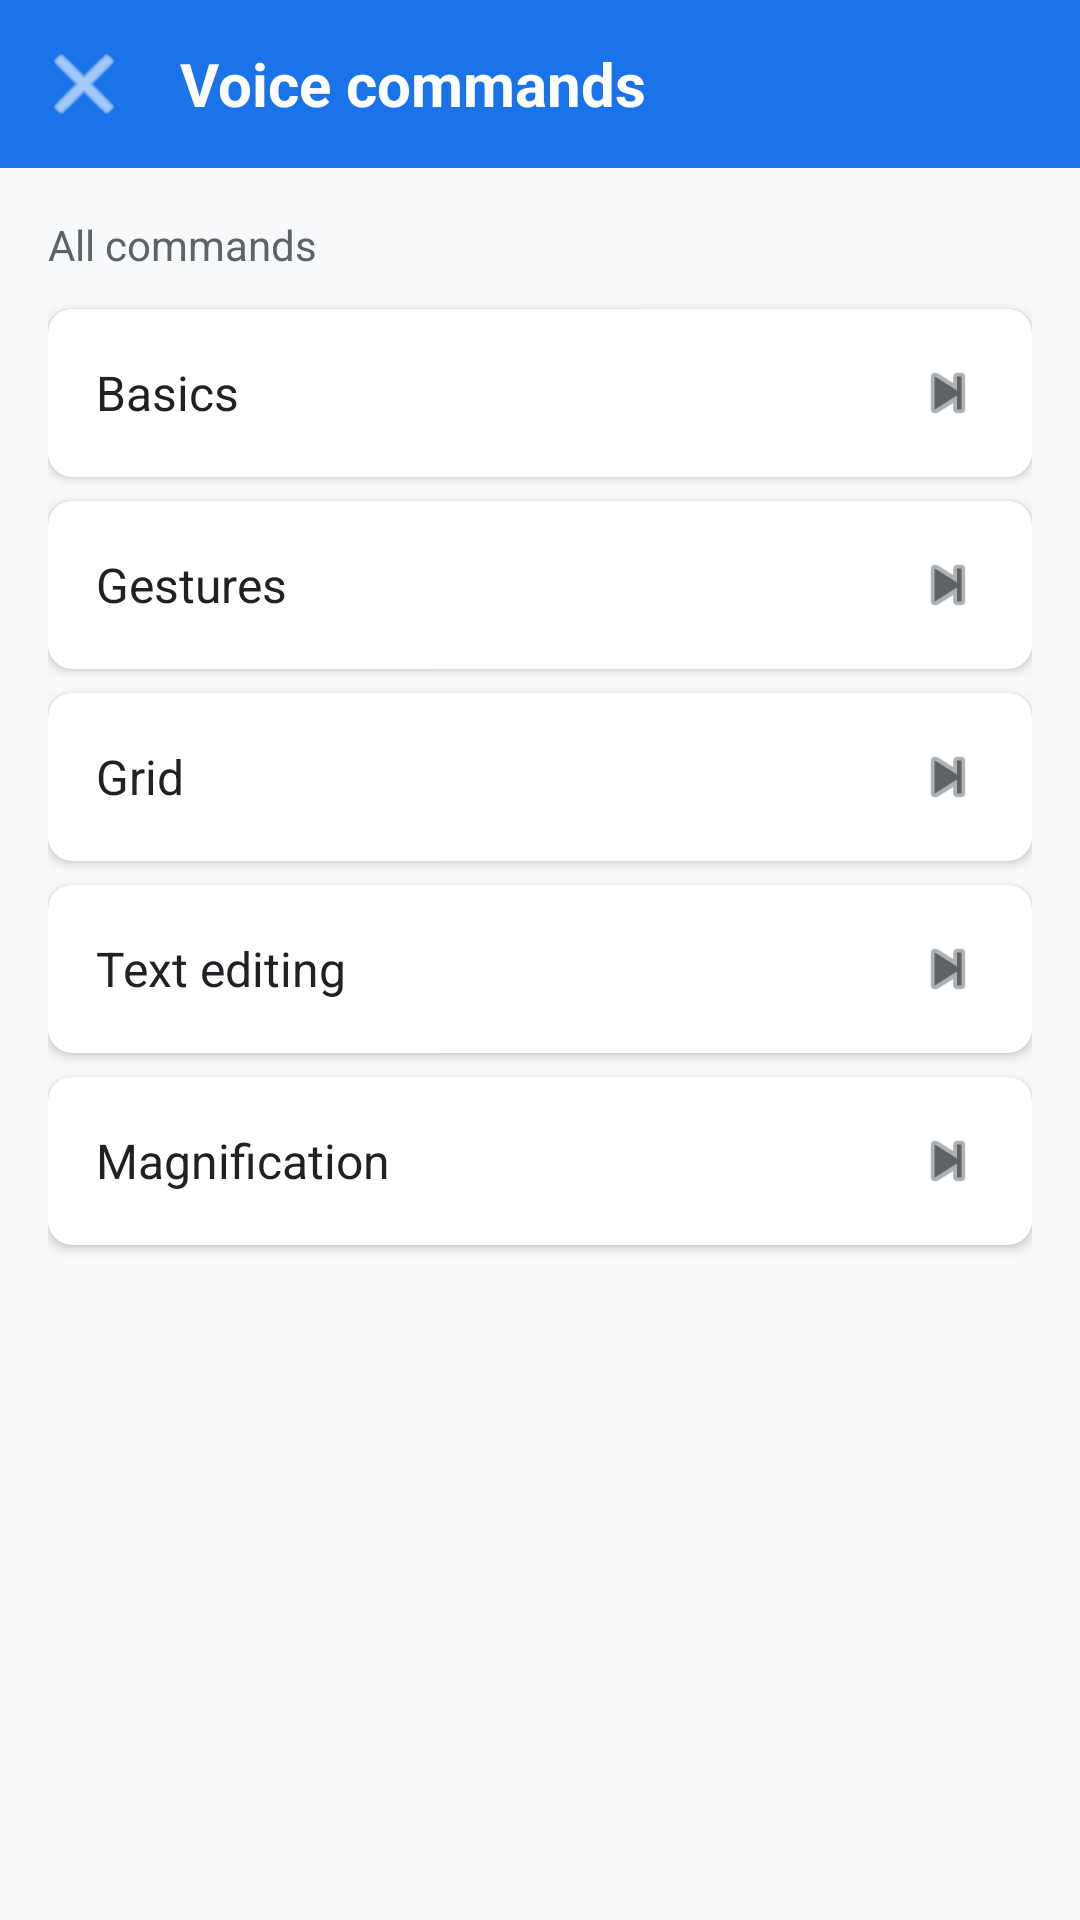

Locate icon controls on the screen. Image size 1080*1920, boxes as (left=x1, top=y1, right=x2, bottom=y2).
next: (left=931, top=373, right=965, bottom=413), (left=931, top=565, right=965, bottom=605), (left=931, top=757, right=965, bottom=797), (left=931, top=949, right=965, bottom=989), (left=931, top=1141, right=965, bottom=1181)
